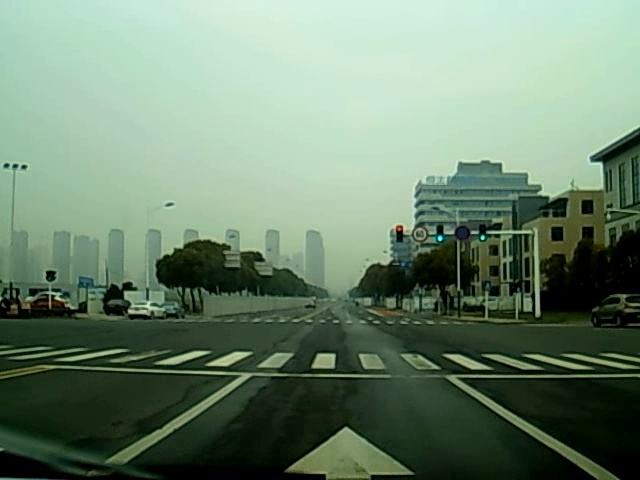Traffic_Light_go: (436, 224, 445, 246), (479, 223, 487, 245)
Traffic_Light_stop: (394, 224, 405, 245)
